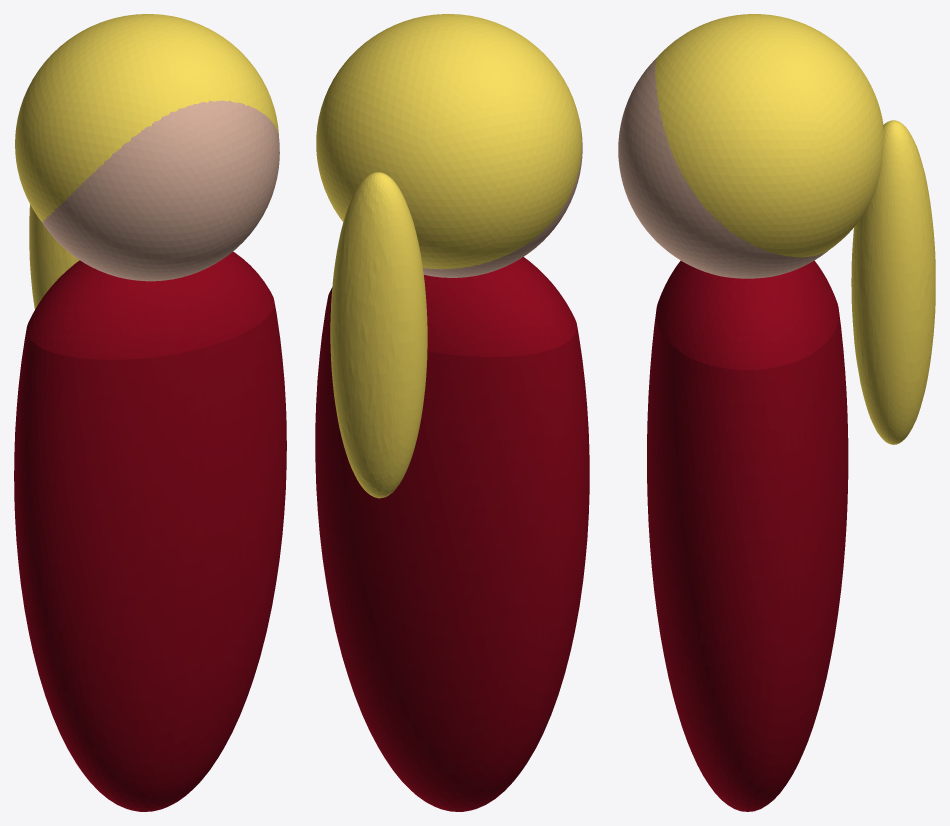
Rendered from Person6.fbx.
3 renders of one model, left to right at view 1: azimuth 30°, elevation 25°; view 2: azimuth 150°, elevation 25°; view 3: azimuth 270°, elevation 25°, orthographic.
Visible parts, largest first — view 1: node_id9 (×4); view 2: node_id9 (×4); view 3: node_id9 (×4).
Part boxes in pixels (box(x1,y1,x2,y2)): node_id9 (×4): box(14, 14, 286, 811); node_id9 (×4): box(315, 14, 589, 811); node_id9 (×4): box(618, 14, 935, 811).
Size of the model in its own units: 0.1742 by 0.512 by 0.1889.
